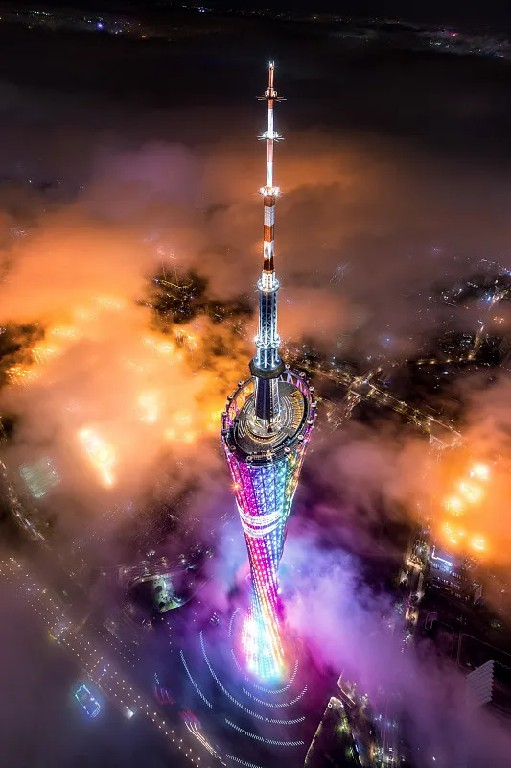Canton: (213, 58, 309, 676)
